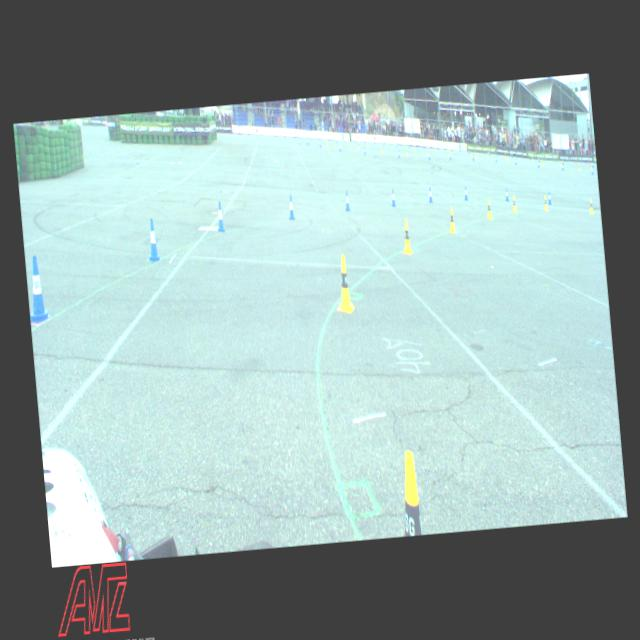blue_cone: (24, 254, 50, 324), (145, 218, 161, 262), (214, 201, 226, 232), (286, 194, 296, 219), (343, 190, 350, 212), (390, 188, 396, 206), (546, 191, 552, 204), (463, 186, 468, 201), (504, 187, 509, 202), (428, 186, 432, 202), (536, 160, 540, 168), (560, 162, 564, 170), (494, 155, 498, 162), (590, 167, 594, 174), (363, 146, 366, 155), (448, 151, 451, 160), (397, 149, 400, 158), (514, 157, 517, 165), (338, 144, 341, 152), (428, 151, 430, 160), (472, 153, 474, 161), (319, 140, 321, 148), (592, 161, 594, 168), (562, 160, 562, 164)
yellow_cone: (398, 450, 422, 536), (334, 254, 354, 314), (401, 218, 414, 255), (448, 207, 457, 233), (486, 200, 492, 220), (510, 195, 517, 212), (588, 198, 594, 214), (542, 194, 548, 210), (558, 160, 562, 167), (540, 159, 544, 166), (577, 162, 580, 170), (405, 147, 408, 155), (589, 162, 592, 170), (446, 150, 449, 157), (425, 148, 428, 155), (469, 149, 472, 156), (339, 141, 342, 148), (381, 144, 383, 153), (474, 152, 476, 160), (506, 154, 508, 162), (504, 152, 506, 159), (486, 151, 488, 158), (357, 142, 359, 148)
